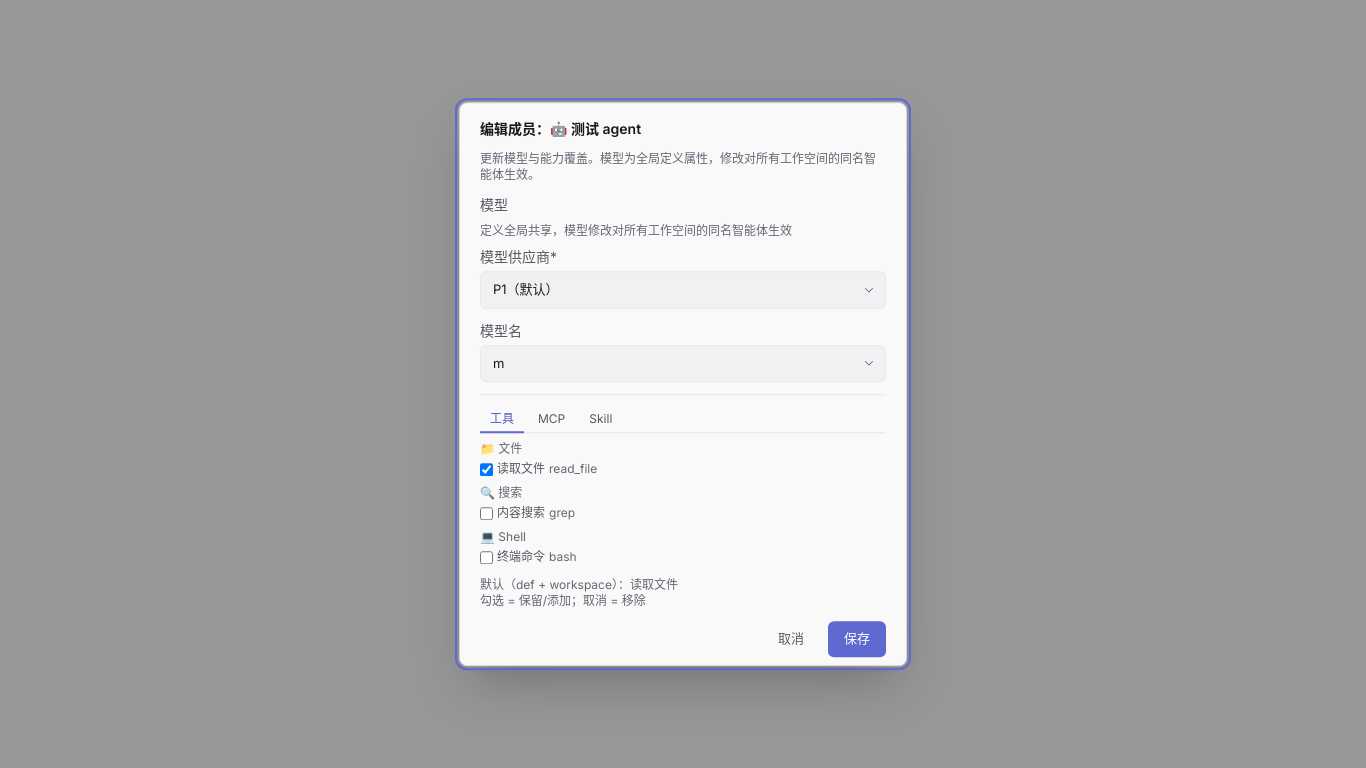
Test case: MemberEditDialog — 模型区（全局定义） › updateDefinition 失败 → error 展示且弹窗不关闭
Select "m2" in the dropdown labelled "模型名" at (683, 364), box [480,345,886,382]
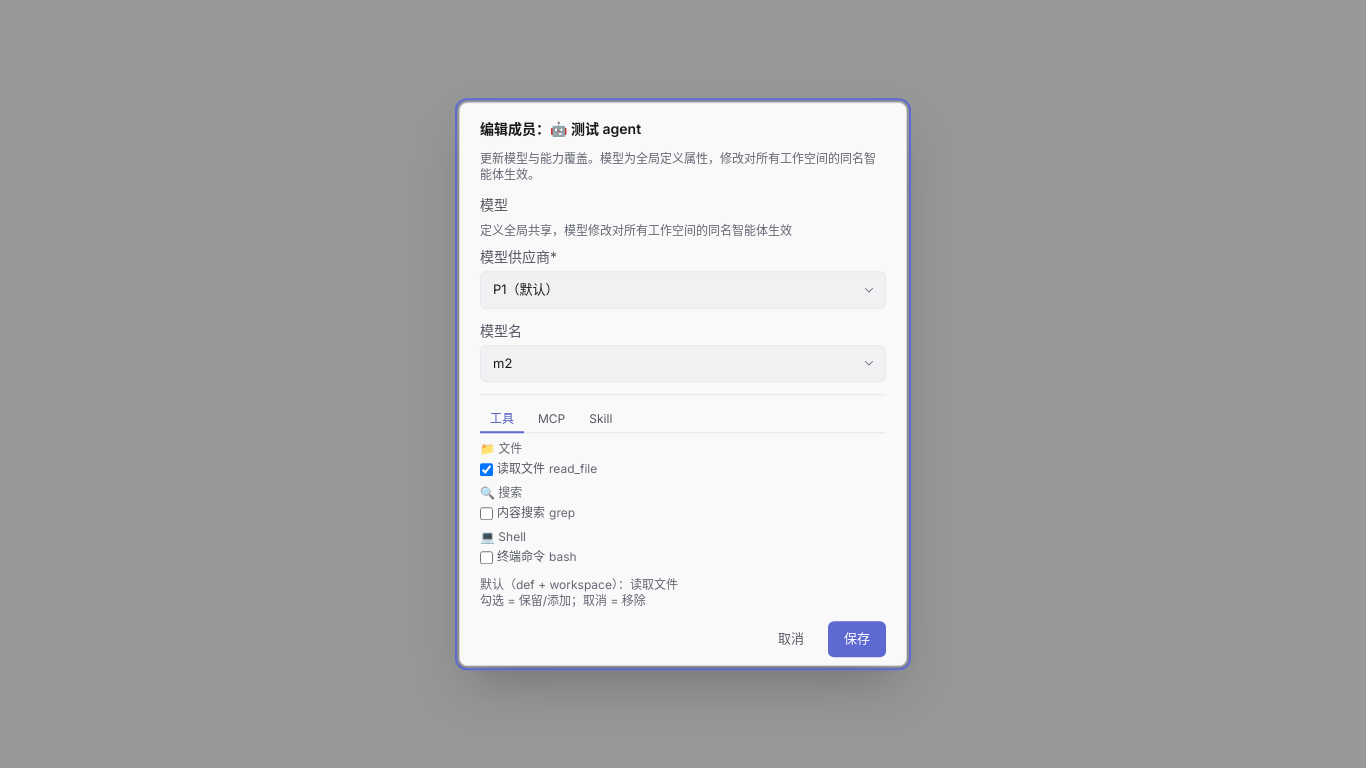
Click the button "保存" at (857, 639), box [828,621,886,657]
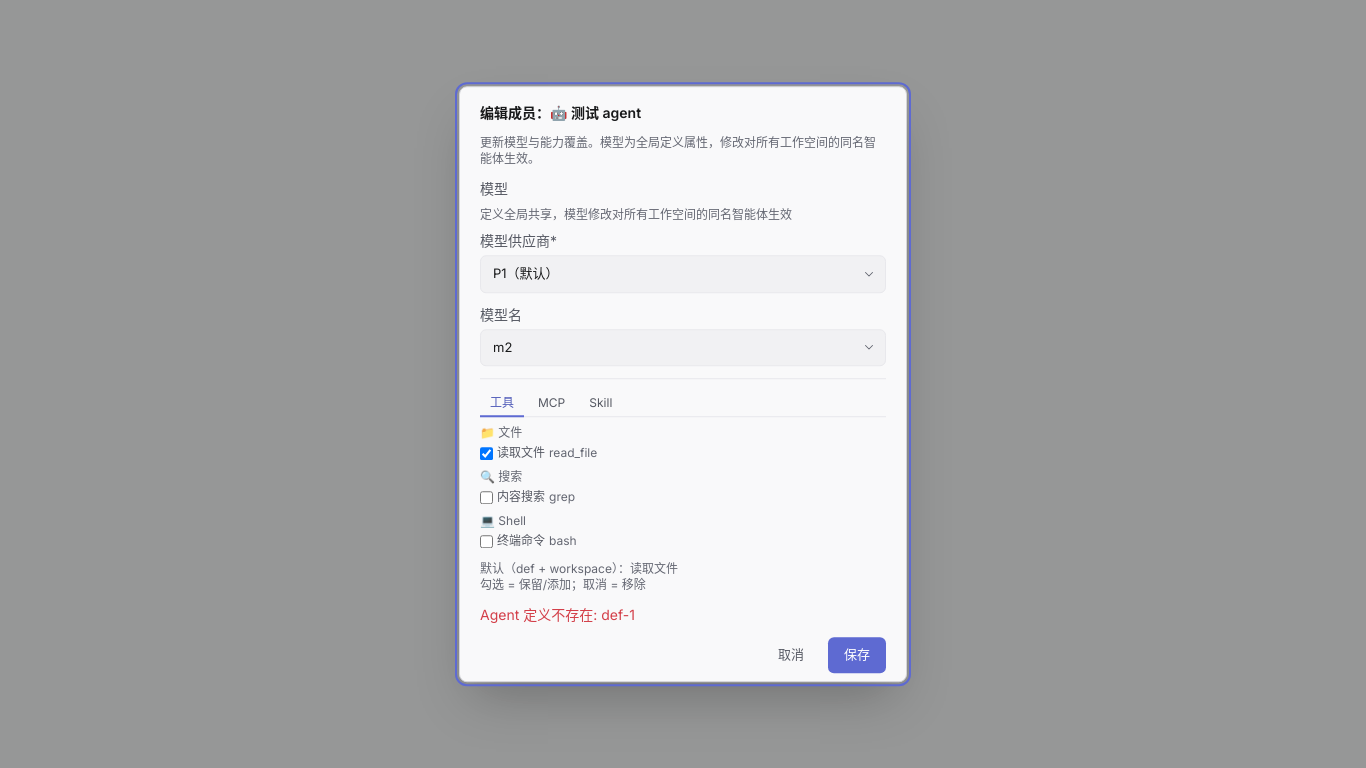
Expected: the text "Agent 定义不存在: def-1" is shown, [480,606,635,623]
